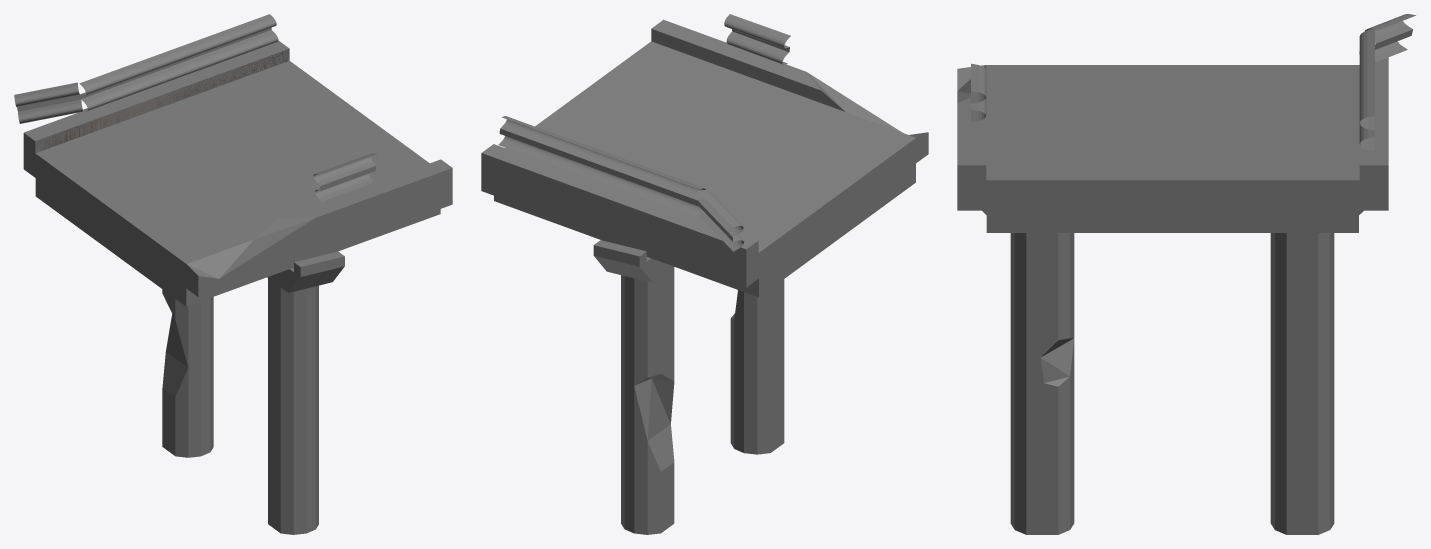
The model's file is freewayBreak.FBX.
3 renders of one model, left to right at view 1: azimuth 30°, elevation 25°; view 2: azimuth 150°, elevation 25°; view 3: azimuth 270°, elevation 25°, orthographic. The views are drawn at different scales.
Parts seen in each view (by area): view 1: Top, Bottom; view 2: Top, Bottom; view 3: Top, Bottom.
Boxes of the visible parts, x1,y1,x2,y2 form: Top: (14, 14, 452, 306); Bottom: (162, 251, 344, 534); Top: (481, 14, 928, 297); Bottom: (593, 240, 784, 534); Top: (957, 14, 1415, 232); Bottom: (982, 210, 1363, 534).
Size of the model in its own units: 1.07 by 1.52 by 1.34.
1 material, 1 textured.
